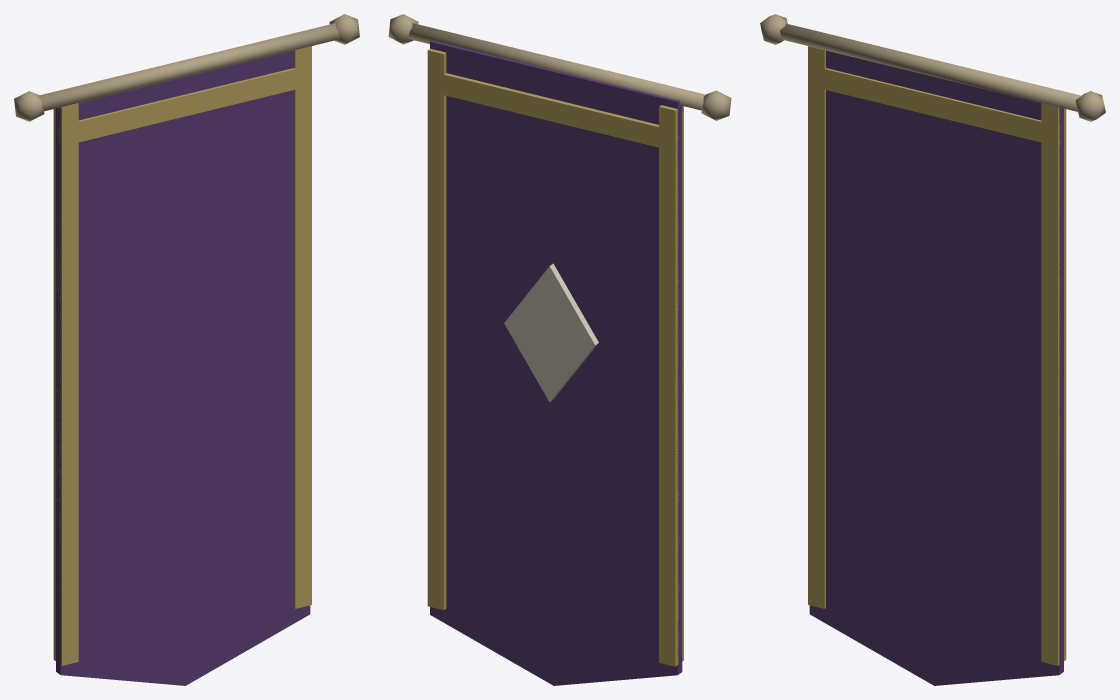
File: corruptor_banner_v0.glb
3 renders of one model, left to right at view 1: azimuth 30°, elevation 25°; view 2: azimuth 150°, elevation 25°; view 3: azimuth 330°, elevation 25°, orthographic.
Visible parts, largest first — view 1: corruptor_banner_v0; view 2: corruptor_banner_v0; view 3: corruptor_banner_v0.
Boxes of the visible parts, x1,y1,x2,y2 form: corruptor_banner_v0: (14,14,359,685); corruptor_banner_v0: (388,14,731,685); corruptor_banner_v0: (760,14,1105,685).
Size of the model in its own units: 1.04 by 1.84 by 0.0933.
